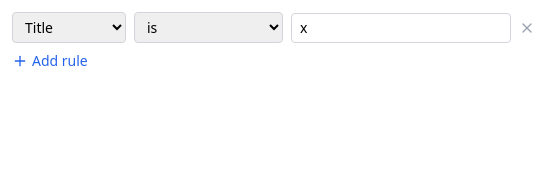
Test: FilterBuilder › changing the field resets operator and value and offers that type's operators
Select "Due date" in the dropdown named "Rule 1 field" at (69, 28), box [12,12,126,43]
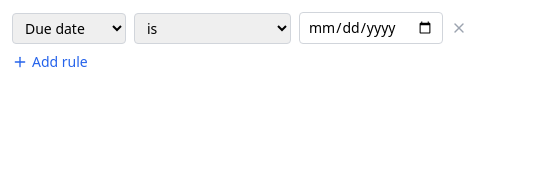
Check: the dropdown named "Rule 1 operator" shows "is", box [134,12,291,44]
Check: the date field named "Rule 1 value" is empty, box [299,12,443,44]
